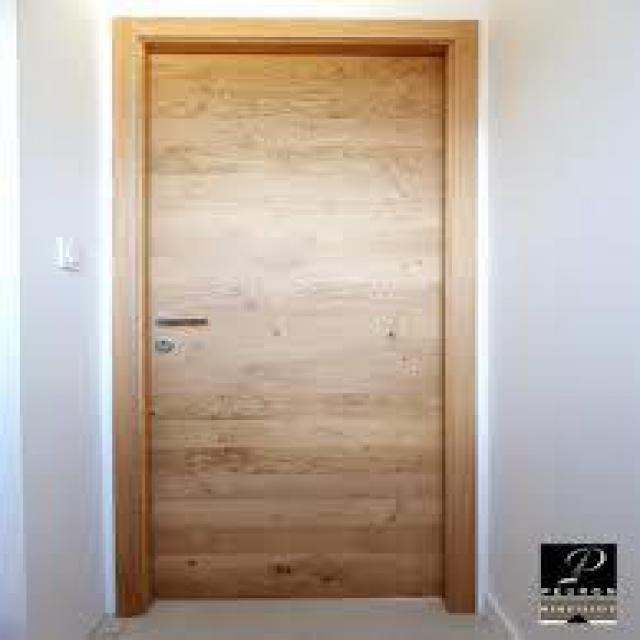close: (96, 5, 488, 628)
